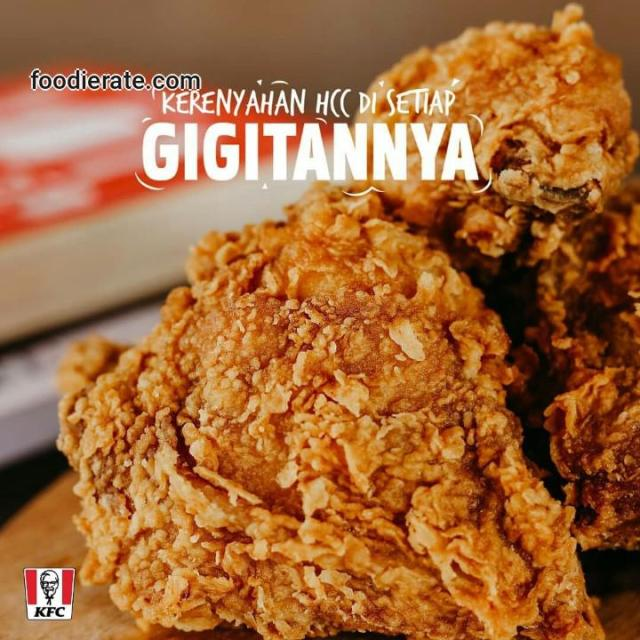Chicken -Fried Chicken-: (56, 189, 593, 639)
